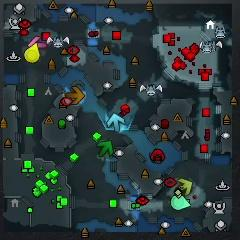p2: (171, 195, 190, 210)
p4: (24, 44, 40, 63)
x1: (28, 37, 47, 49)
x2: (177, 178, 192, 196)
x3: (108, 113, 125, 132)
x4: (98, 140, 113, 156)
x5: (66, 86, 85, 104)
